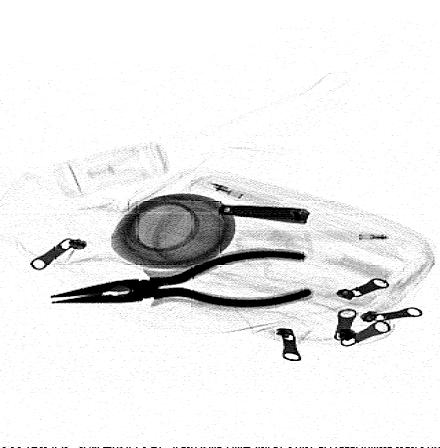Pliers: (45, 249, 313, 309)
